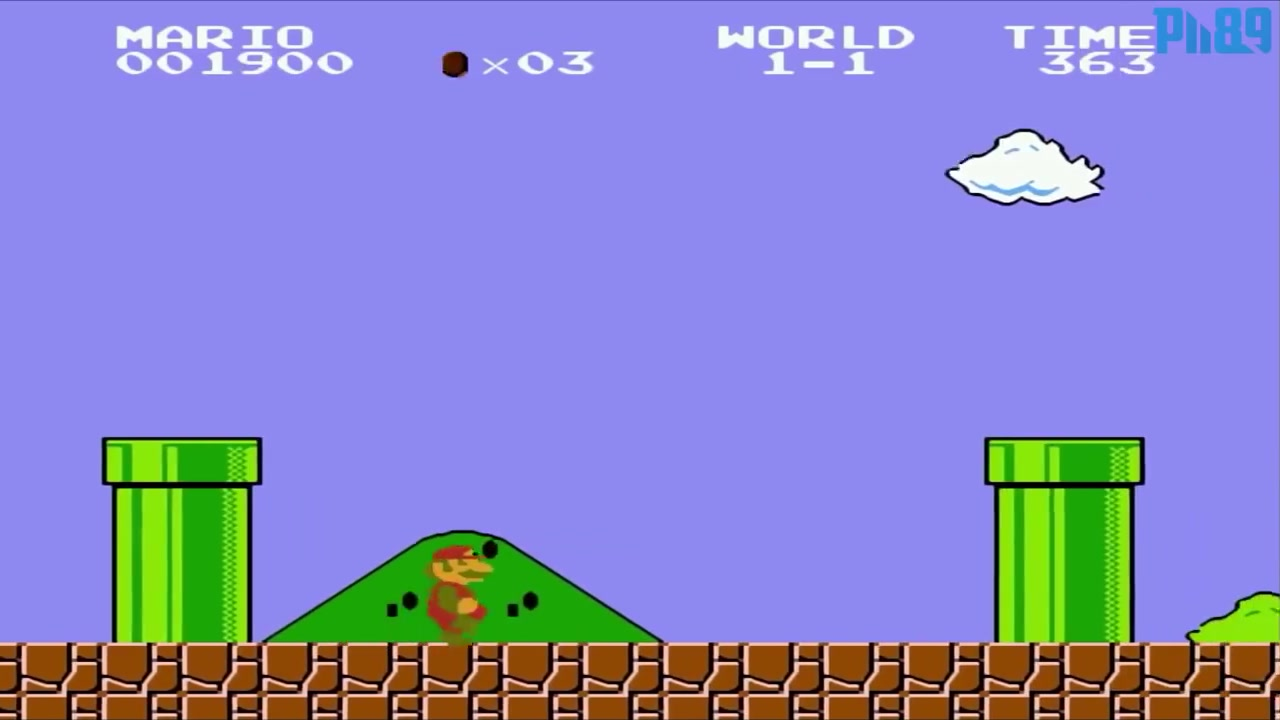mario: (415, 541, 500, 645)
